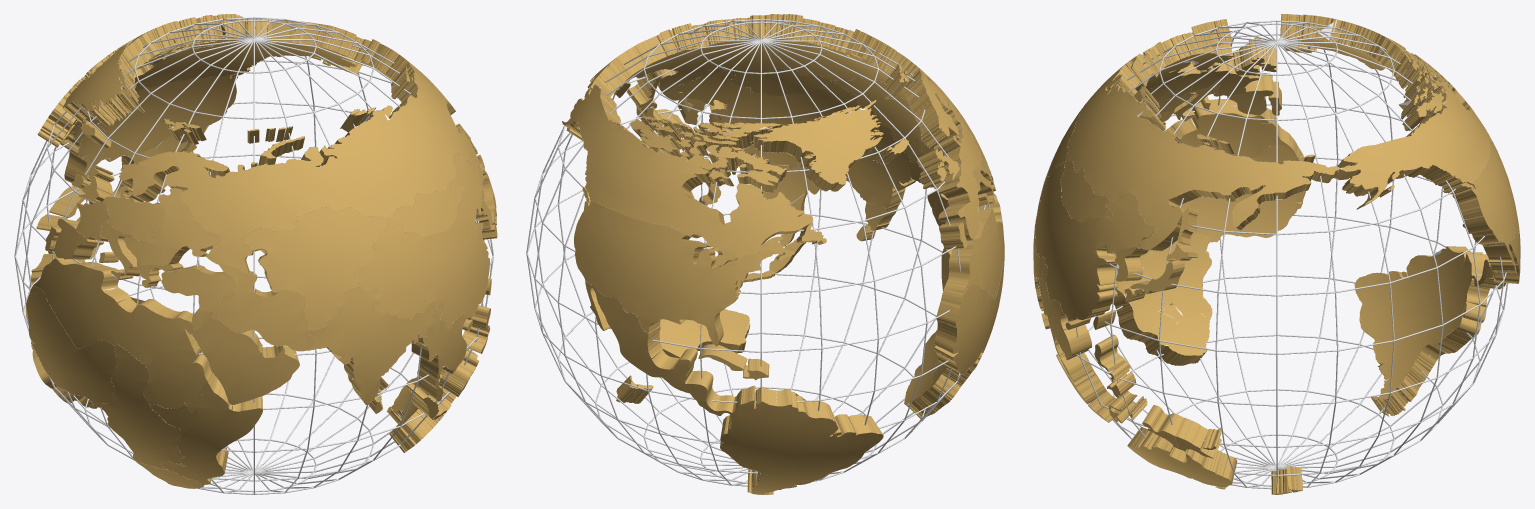
The model's file is globeCountries.gltf.
3 renders of one model, left to right at view 1: azimuth 30°, elevation 25°; view 2: azimuth 150°, elevation 25°; view 3: azimuth 270°, elevation 25°, orthographic. The views are drawn at different scales.
Visible parts, largest first — view 1: Plane.296, Sphere.002, Plane.215, Plane.219, Plane.301, Plane.205, Plane.204, Plane.201, Plane.299, Plane.298, Plane.212, Plane.210 (+21 smaller); view 2: Sphere.002, Plane.204, Plane.205, Plane.296, Plane.209, Plane.203, Plane.301, Plane.216, Plane.298, Plane.219, Plane.201, Plane.215 (+16 smaller); view 3: Sphere.002, Plane.296, Plane.209, Plane.301, Plane.204, Plane.215, Plane.205, Plane.298, Plane.300, Plane.210, Plane.299, Plane.203 (+19 smaller).
Boxes of the visible parts, x1,y1,x2,y2 form: Plane.296: [119, 39, 483, 273]; Sphere.002: [14, 17, 493, 494]; Plane.215: [33, 258, 212, 412]; Plane.219: [243, 179, 464, 330]; Plane.301: [353, 153, 489, 328]; Plane.205: [60, 74, 237, 182]; Plane.204: [51, 18, 363, 140]; Plane.201: [304, 286, 438, 405]; Plane.299: [150, 373, 262, 485]; Plane.298: [26, 286, 116, 407]; Plane.212: [192, 317, 299, 405]; Plane.210: [101, 344, 184, 469]; Sphere.002: [526, 19, 989, 486]; Plane.204: [562, 84, 812, 266]; Plane.205: [573, 201, 772, 346]; Plane.296: [587, 15, 961, 148]; Plane.209: [720, 385, 883, 494]; Plane.203: [753, 99, 883, 191]; Plane.301: [676, 67, 881, 168]; Plane.216: [585, 282, 734, 416]; Plane.298: [934, 264, 1003, 374]; Plane.219: [724, 70, 921, 163]; Plane.201: [845, 125, 923, 230]; Plane.215: [944, 193, 1004, 299]; Sphere.002: [1076, 20, 1508, 489]; Plane.296: [1066, 32, 1340, 251]; Plane.209: [1354, 246, 1490, 415]; Plane.301: [1035, 161, 1155, 321]; Plane.204: [1334, 71, 1490, 209]; Plane.215: [1164, 99, 1290, 157]; Plane.205: [1452, 133, 1520, 246]; Plane.298: [1187, 136, 1305, 242]; Plane.300: [1127, 426, 1237, 487]; Plane.210: [1141, 202, 1212, 318]; Plane.299: [1113, 250, 1182, 356]; Plane.203: [1280, 14, 1405, 70].
Size of the model in its own units: 2.45 by 2.41 by 2.49.
